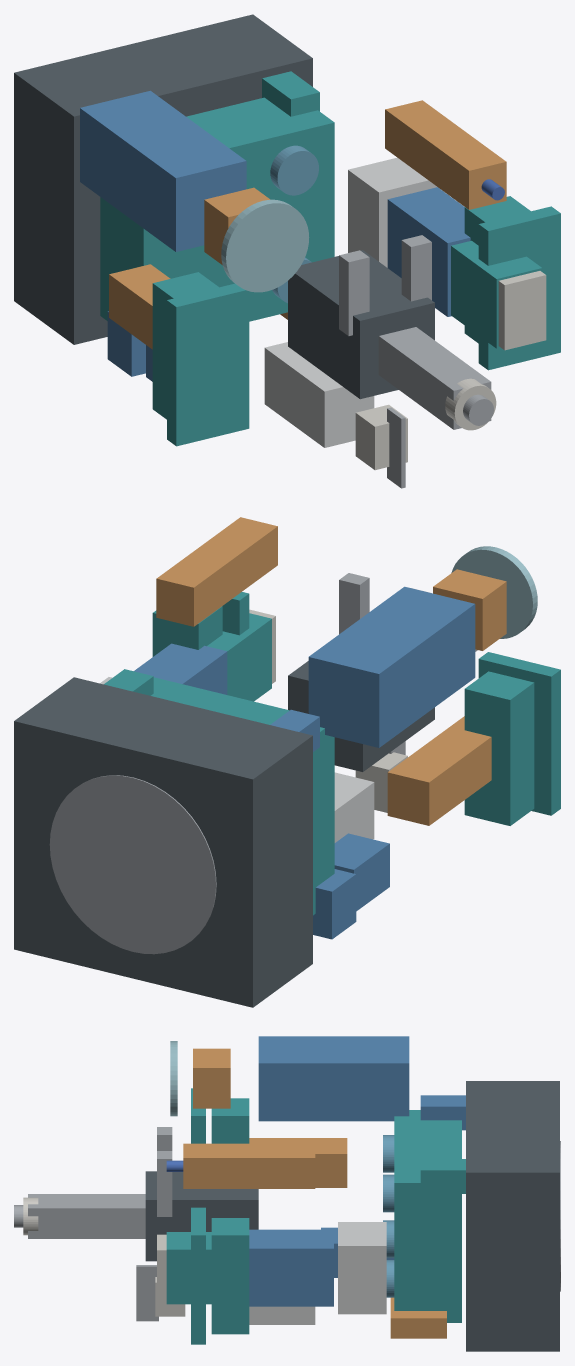
File: dranmar_tumor_resection_tool_aspirate.glb
3 renders of one model, top to bottom at view 1: azimuth 30°, elevation 25°; view 2: azimuth 150°, elevation 25°; view 3: azimuth 270°, elevation 25°, orthographic. The views are drawn at different scales.
Visible parts, largest first — view 1: Mount_MountBody, BagDeployer_BagDeployerBody, SensorTurret_SensorTurretBody, LeftTraction_LeftPad, AspiratorCarriage_AspiratorCarriageBody, MarginMarker_MarginMarkerBody, RightTraction_RightPad, ScissorCarriage_ScissorCarriageBody, BagDeployer_BagRing, AspiratorRotor_AspiratorRotorBody, UltrasoundPitch_UltrasoundPitchBody, UltrasoundCarriage_UltrasoundCarriageBody (+15 smaller); view 2: Mount_MountBody, Mount_MountRing, BagDeployer_BagDeployerBody, LeftTraction_LeftTractionBody, MarginMarker_MarginMarkerBody, RamanProbe_RamanProbeBody, SensorTurret_SensorTurretBody, LeftTraction_LeftPad, UltrasoundCompliance_UltrasoundComplianceBody, BagDeployer_BagRing, BagClosure_BagClosureBody, UltrasoundPitch_UltrasoundPitchBody (+10 smaller); view 3: Mount_MountBody, BagDeployer_BagDeployerBody, SensorTurret_SensorTurretBody, UltrasoundPitch_UltrasoundPitchBody, MarginMarker_MarginMarkerBody, AspiratorRotor_AspiratorRotorBody, RightTraction_RightTractionBody, UltrasoundCarriage_UltrasoundCarriageBody, AspiratorCarriage_AspiratorCarriageBody, BagClosure_BagClosureBody, UltrasoundCompliance_UltrasoundComplianceBody, RightTraction_RightPad (+15 smaller).
Part boxes in pixels (x1=…): Mount_MountBody: x1=14, y1=14, x2=312, y2=344; BagDeployer_BagDeployerBody: x1=80, y1=90, x2=246, y2=251; SensorTurret_SensorTurretBody: x1=100, y1=97, x2=334, y2=321; LeftTraction_LeftPad: x1=167, y1=283, x2=249, y2=446; AspiratorCarriage_AspiratorCarriageBody: x1=288, y1=250, x2=434, y2=399; MarginMarker_MarginMarkerBody: x1=385, y1=100, x2=506, y2=209; RightTraction_RightPad: x1=478, y1=206, x2=560, y2=370; ScissorCarriage_ScissorCarriageBody: x1=264, y1=342, x2=374, y2=447; BagDeployer_BagRing: x1=221, y1=199, x2=309, y2=292; AspiratorRotor_AspiratorRotorBody: x1=378, y1=327, x2=491, y2=429; UltrasoundPitch_UltrasoundPitchBody: x1=387, y1=187, x2=470, y2=316; UltrasoundCarriage_UltrasoundCarriageBody: x1=348, y1=157, x2=440, y2=267; Mount_MountBody: x1=14, y1=677, x2=312, y2=1007; Mount_MountRing: x1=49, y1=775, x2=216, y2=954; BagDeployer_BagDeployerBody: x1=308, y1=586, x2=475, y2=747; LeftTraction_LeftTractionBody: x1=464, y1=671, x2=534, y2=825; MarginMarker_MarginMarkerBody: x1=156, y1=517, x2=277, y2=626; RamanProbe_RamanProbeBody: x1=387, y1=716, x2=491, y2=825; SensorTurret_SensorTurretBody: x1=151, y1=677, x2=334, y2=915; LeftTraction_LeftPad: x1=478, y1=652, x2=560, y2=815; UltrasoundCompliance_UltrasoundComplianceBody: x1=207, y1=613, x2=271, y2=701; BagDeployer_BagRing: x1=451, y1=546, x2=537, y2=638; BagClosure_BagClosureBody: x1=433, y1=569, x2=506, y2=650; UltrasoundPitch_UltrasoundPitchBody: x1=134, y1=643, x2=227, y2=694; Mount_MountBody: x1=466, y1=1081, x2=559, y2=1351; BagDeployer_BagDeployerBody: x1=258, y1=1036, x2=409, y2=1121; SensorTurret_SensorTurretBody: x1=394, y1=1110, x2=461, y2=1322; UltrasoundPitch_UltrasoundPitchBody: x1=249, y1=1229, x2=333, y2=1306; MarginMarker_MarginMarkerBody: x1=183, y1=1143, x2=315, y2=1188; AspiratorRotor_AspiratorRotorBody: x1=28, y1=1194, x2=145, y2=1238; RightTraction_RightTractionBody: x1=211, y1=1218, x2=249, y2=1334; UltrasoundCarriage_UltrasoundCarriageBody: x1=338, y1=1222, x2=386, y2=1314; AspiratorCarriage_AspiratorCarriageBody: x1=145, y1=1171, x2=258, y2=1261; BagClosure_BagClosureBody: x1=193, y1=1048, x2=230, y2=1108; UltrasoundCompliance_UltrasoundComplianceBody: x1=166, y1=1232, x2=211, y2=1304; RightTraction_RightPad: x1=191, y1=1207, x2=205, y2=1344.
Bounding box in the file's own units: 0.185 × 0.136 × 0.2905.
